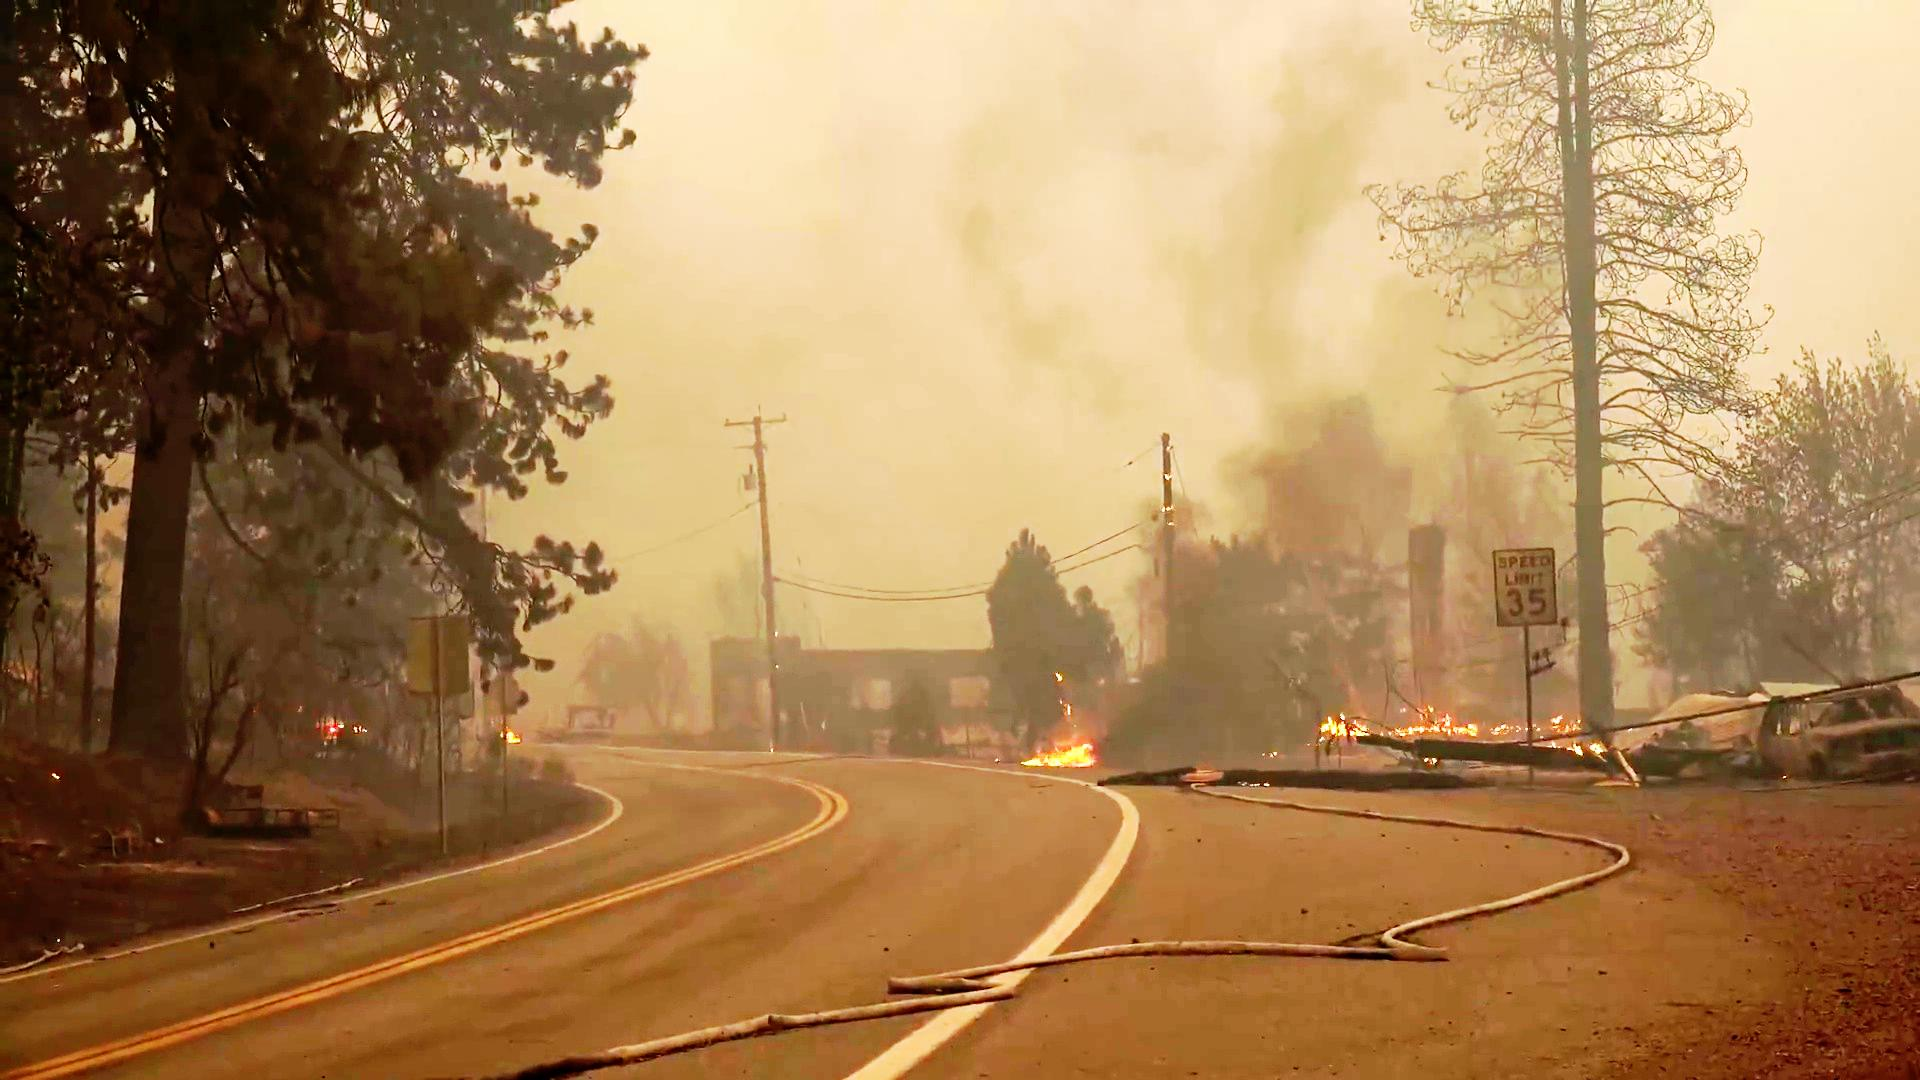smoke: (961, 0, 1313, 433), (670, 0, 997, 373)
